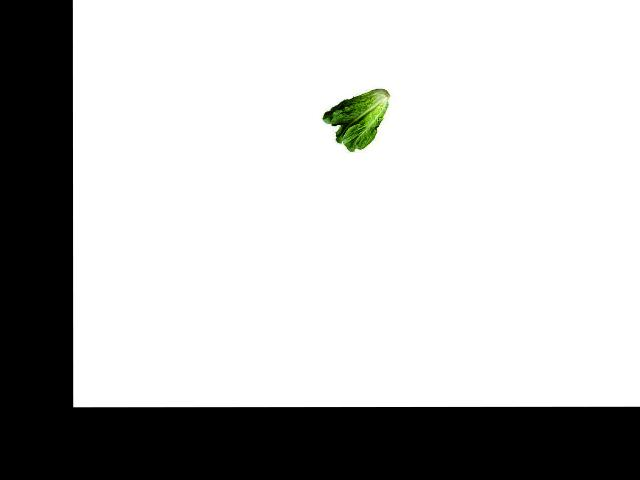lettuce: (323, 87, 391, 160)
